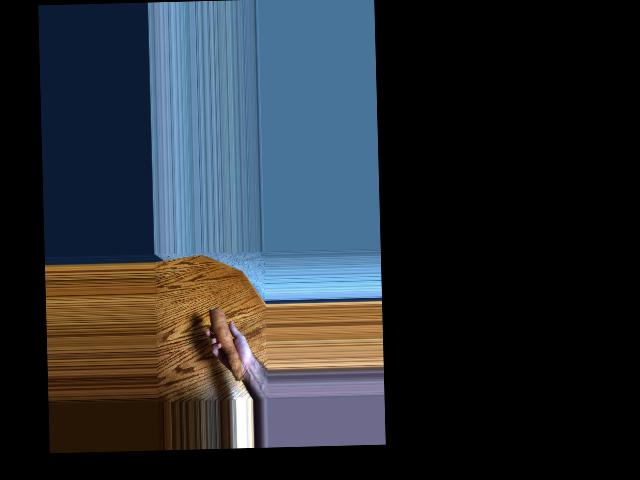sweet_potato: (207, 307, 245, 380)
